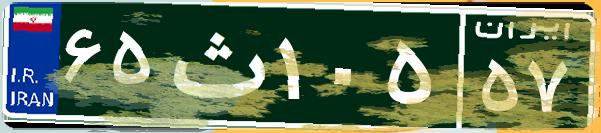0: (330, 28, 385, 110)
1: (273, 28, 330, 110)
5: (385, 28, 445, 110), (475, 38, 525, 113), (110, 28, 158, 105)
6: (57, 26, 110, 107)
7: (525, 38, 570, 115)
ث: (158, 15, 273, 115)
